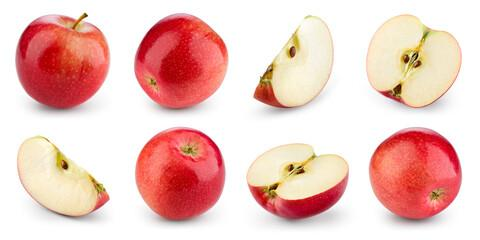apple: (7, 7, 116, 117), (126, 6, 237, 113), (360, 8, 467, 115), (129, 120, 237, 226), (365, 122, 466, 229), (243, 138, 360, 220), (11, 130, 113, 222), (249, 11, 336, 111)
